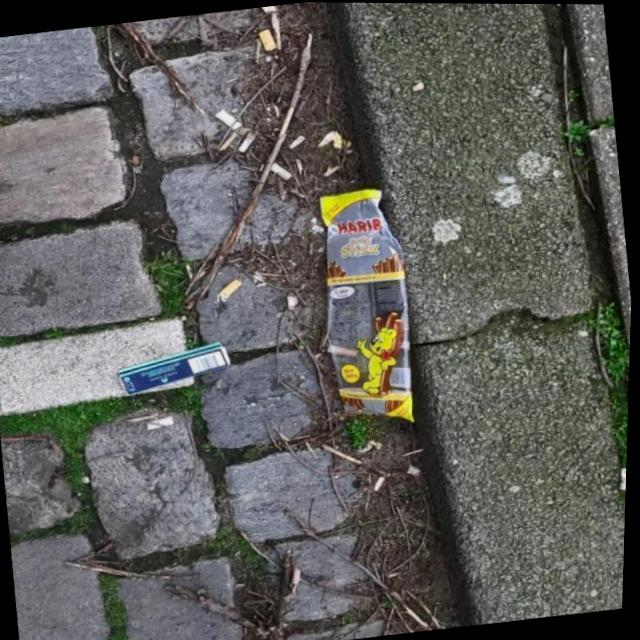Paper: (113, 338, 236, 398)
Plastic: (305, 182, 429, 434)
